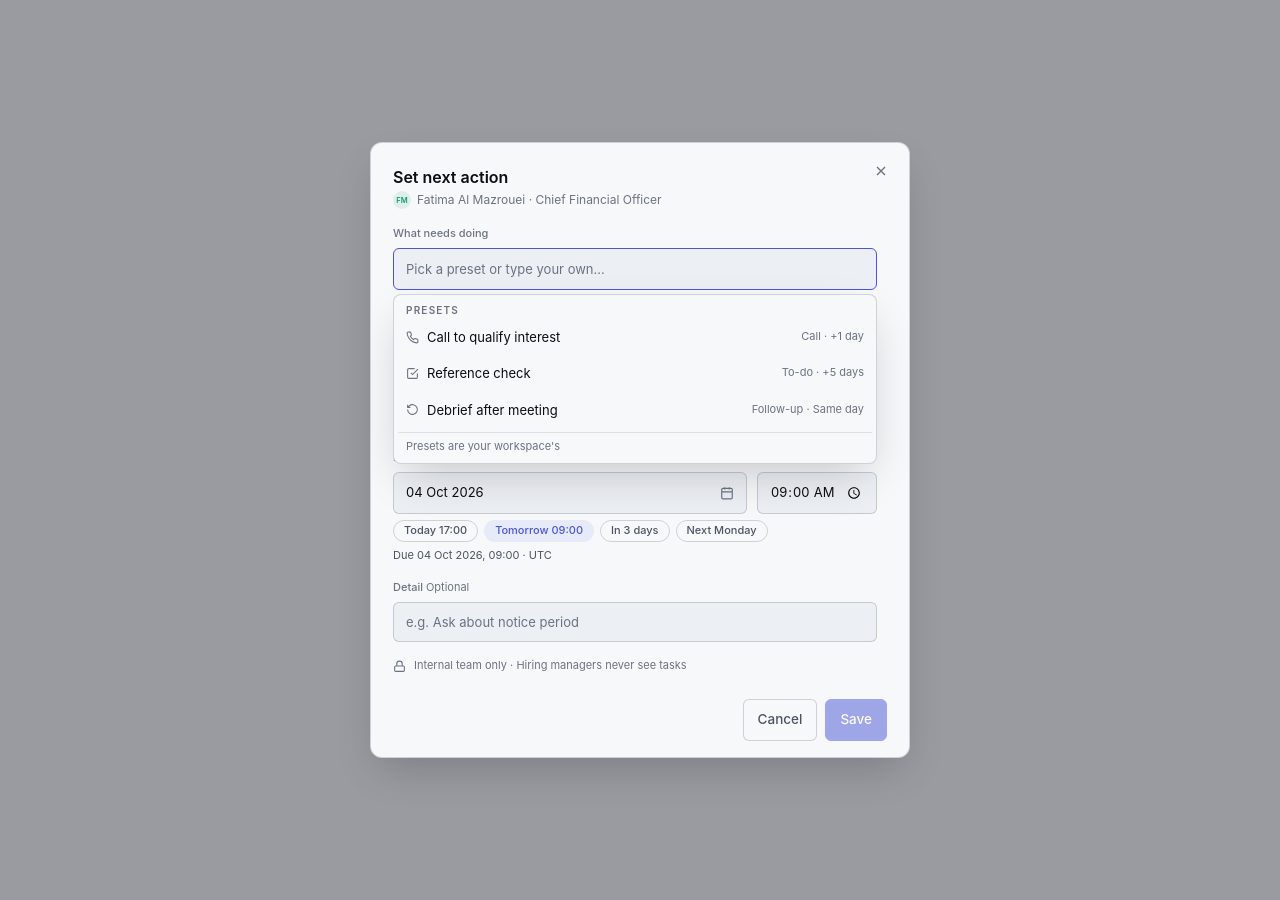
NextActionModal › says why a save was refused
The width and height of the screenshot is (1280, 900).
Expected: the option "Call to qualify interest Call · +1 day" is shown, [406,329,864,345]
In the dropdown named "What needs doing": coordinates (635, 269) [393,248,877,290], type "Call him back"
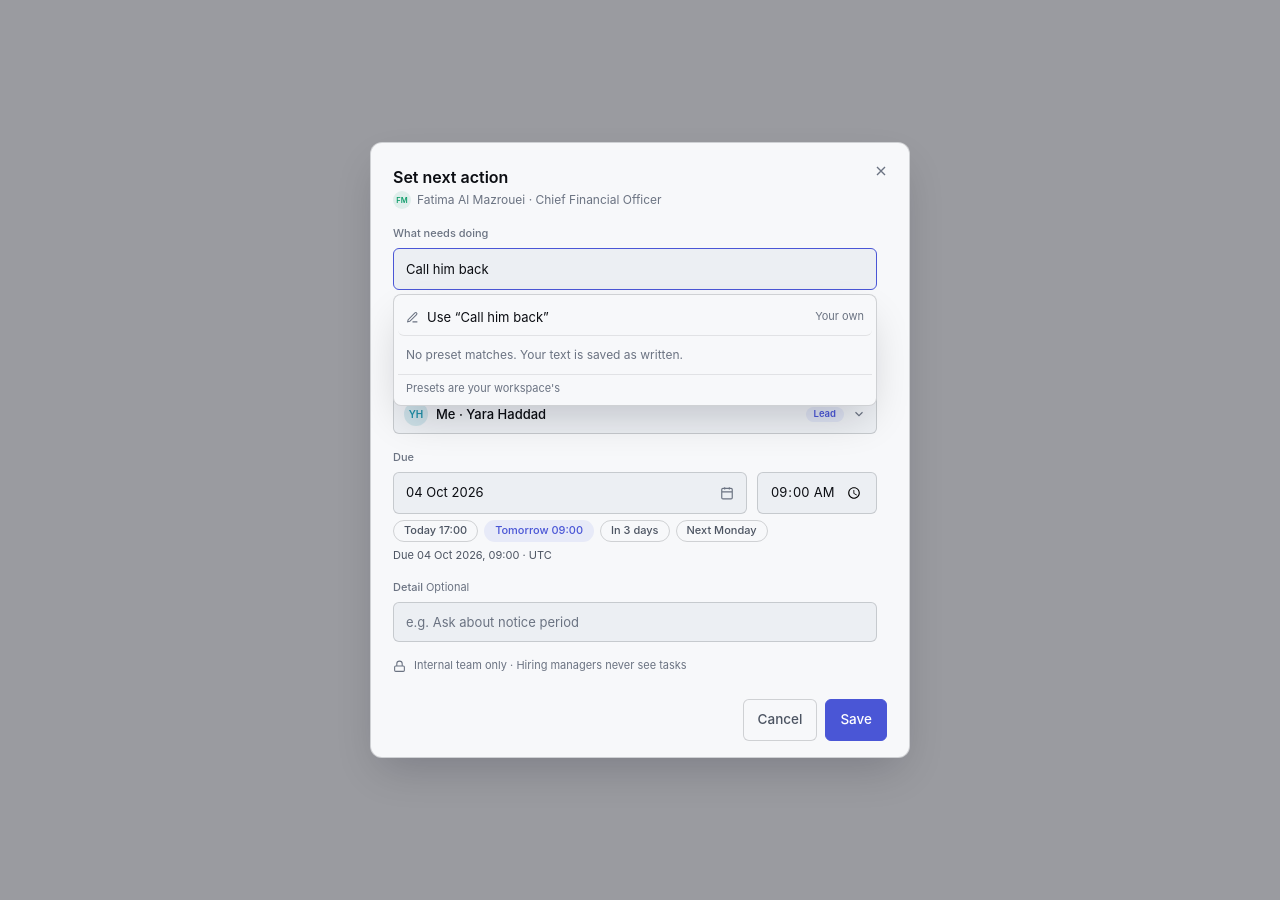
Click the button "Save": coordinates (856, 720) [825,699,887,741]
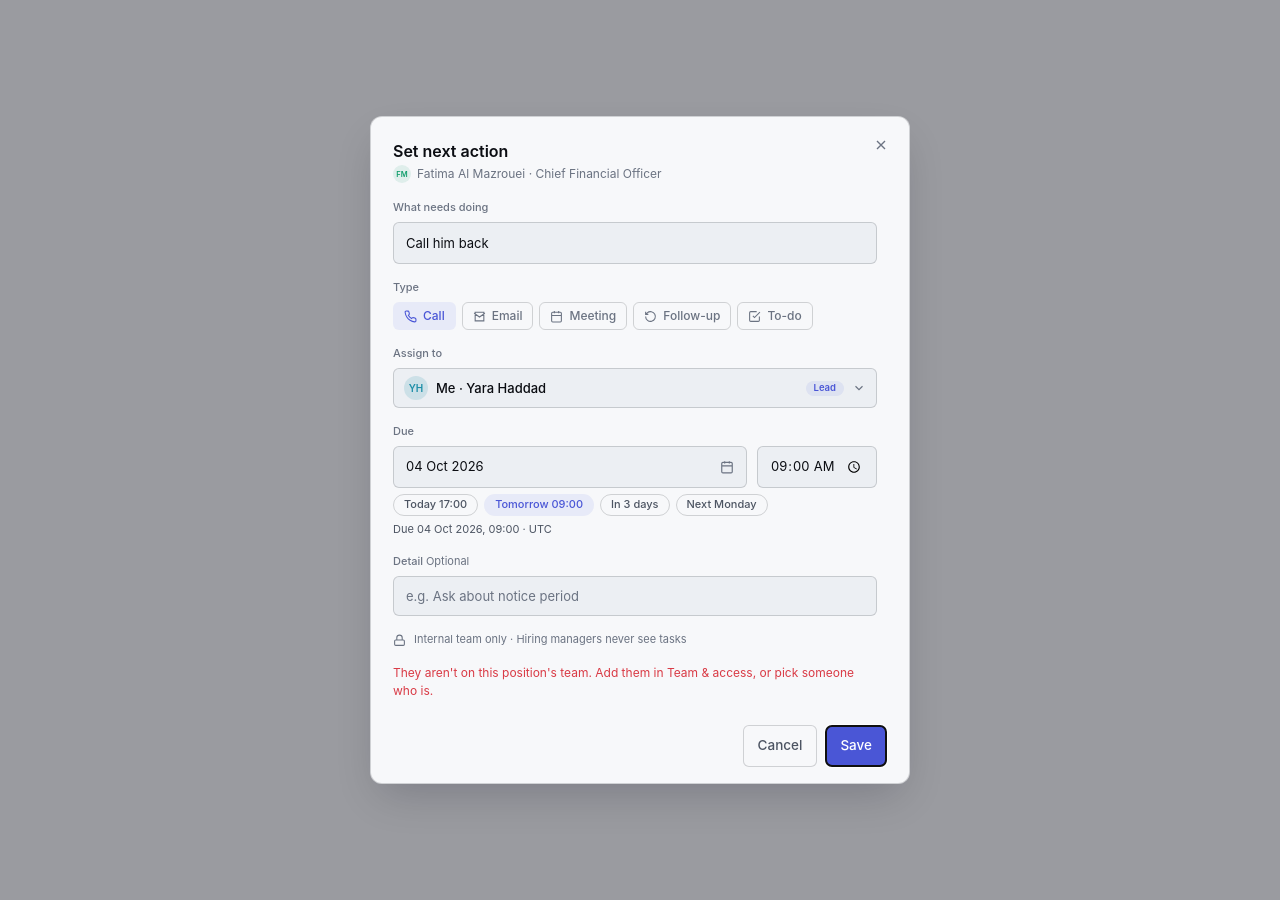
Expected: the message shows "They aren't on this position's team.", [393,665,854,698]
